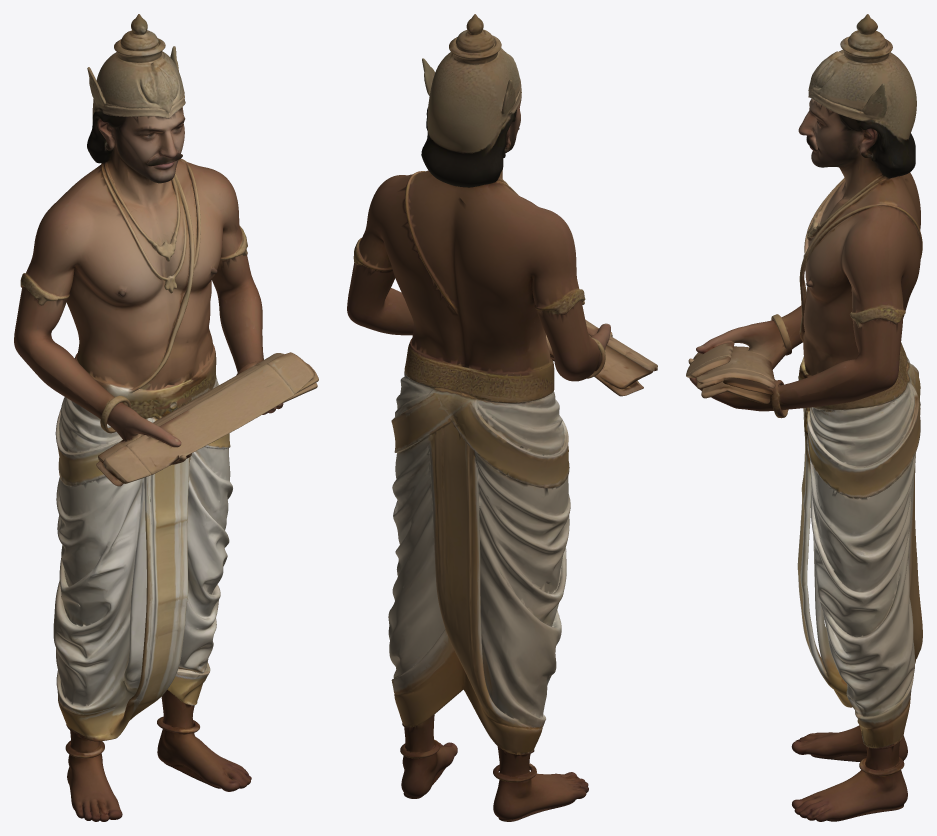
Rendered from cheraman_perumal.glb.
3 renders of one model, left to right at view 1: azimuth 30°, elevation 25°; view 2: azimuth 150°, elevation 25°; view 3: azimuth 270°, elevation 25°, orthographic.
Parts seen in each view (by area): view 1: node_0; view 2: node_0; view 3: node_0.
Boxes of the visible parts, x1,y1,x2,y2 form: node_0: [14, 14, 318, 821]; node_0: [347, 14, 657, 821]; node_0: [686, 14, 922, 821].
Size of the model in its own units: 0.3715 by 1.16 by 0.3241.
Materials: 1 (1 with a texture image).
